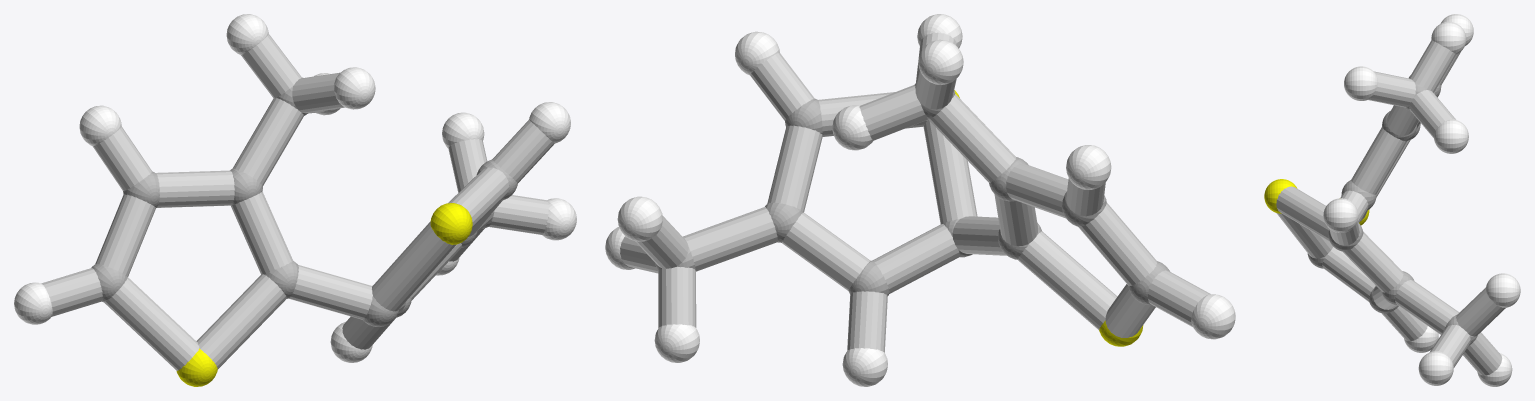
The model's file is Methylthiophene_Phi_60_Theta_70_Methylthiophene.glb.
3 renders of one model, left to right at view 1: azimuth 30°, elevation 25°; view 2: azimuth 150°, elevation 25°; view 3: azimuth 270°, elevation 25°, orthographic. The views are drawn at different scales.
Parts seen in each view (by area): view 1: grp7965, grp3621, grp1, grp7241; view 2: grp7965, grp3621, grp1; view 3: grp7965, grp3621, grp1, grp7241.
Boxes of the visible parts, <box> form: grp7965: <box>41,34,554,370</box>; grp3621: <box>14,14,576,362</box>; grp1: <box>91,77,517,326</box>; grp7241: <box>176,203,472,386</box>; grp7965: <box>620,32,1210,352</box>; grp3621: <box>605,14,1235,386</box>; grp1: <box>655,82,1169,304</box>; grp7965: <box>1276,40,1505,375</box>; grp3621: <box>1323,14,1520,386</box>; grp1: <box>1307,75,1477,345</box>; grp7241: <box>1264,179,1369,225</box>.
Bounding box in the file's own units: 9.32 × 5.53 × 4.39.
